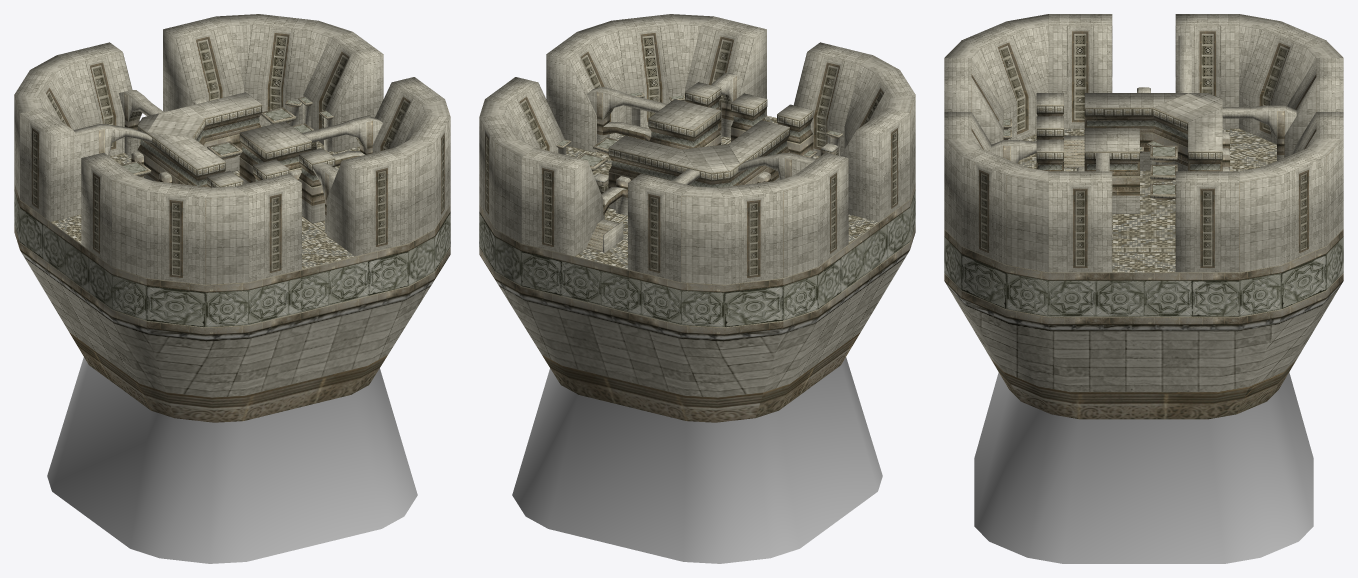
Rendered from Hushardzan_Orion.fbx.
3 views of the same model, side by side, from view 1: azimuth 30°, elevation 25°; view 2: azimuth 150°, elevation 25°; view 3: azimuth 270°, elevation 25° (orthographic). The views are drawn at different scales.
Visible parts, largest first — view 1: Vert.003; view 2: Vert.003; view 3: Vert.003.
Part boxes in pixels (bbox=[...]): Vert.003: bbox=[14, 14, 450, 563]; Vert.003: bbox=[479, 14, 915, 563]; Vert.003: bbox=[944, 14, 1343, 563].
Bounding box in the file's own units: 57.96 × 63.06 × 57.96.
